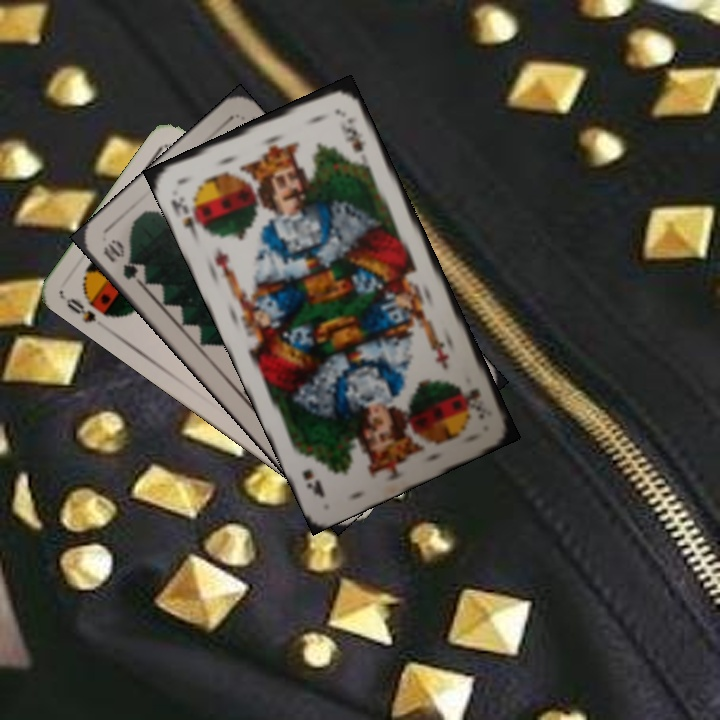G10: (98, 235, 145, 288)
SK: (167, 192, 209, 241), (464, 384, 488, 422)
SO: (61, 293, 100, 326)
